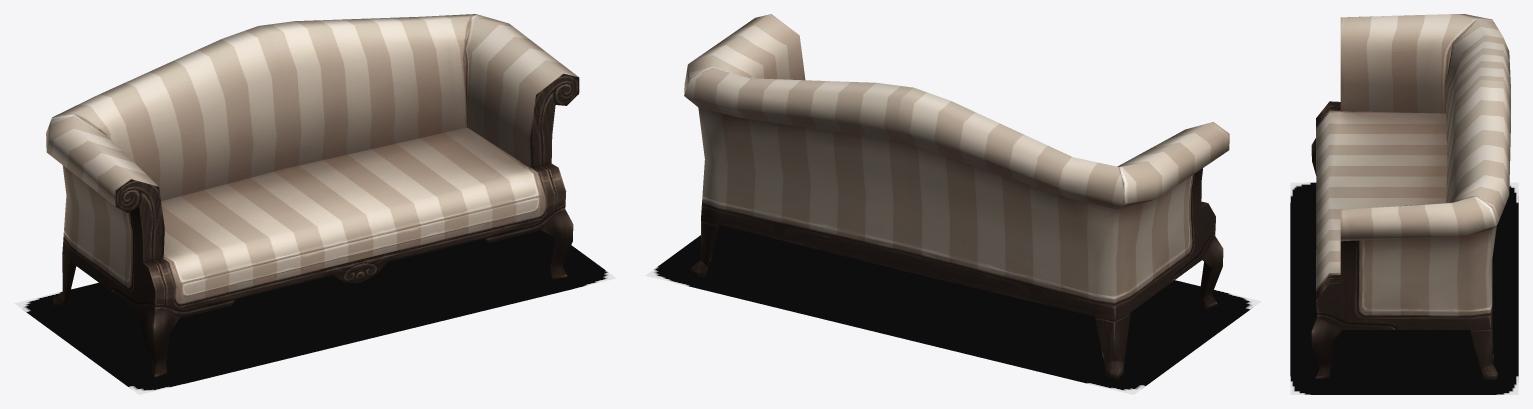
The model's file is jj_ty_shafa05.FBX.
3 views of the same model, side by side, from view 1: azimuth 30°, elevation 25°; view 2: azimuth 150°, elevation 25°; view 3: azimuth 270°, elevation 25° (orthographic). The views are drawn at different scales.
Visible parts, largest first — view 1: jj_ty_shafa05, shadow; view 2: jj_ty_shafa05, shadow; view 3: jj_ty_shafa05, shadow.
Part boxes in pixels (<box>): jj_ty_shafa05: <box>46,14,579,377</box>; shadow: <box>14,230,616,394</box>; jj_ty_shafa05: <box>684,14,1229,379</box>; shadow: <box>645,225,1261,394</box>; jj_ty_shafa05: <box>1311,14,1510,379</box>; shadow: <box>1290,182,1518,394</box>.
Size of the model in its own units: 279 by 128 by 127.
